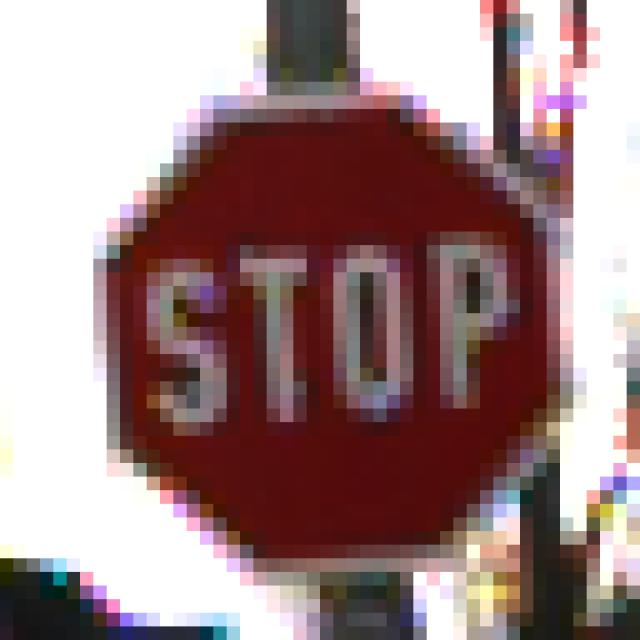STOP: (81, 69, 561, 559)
